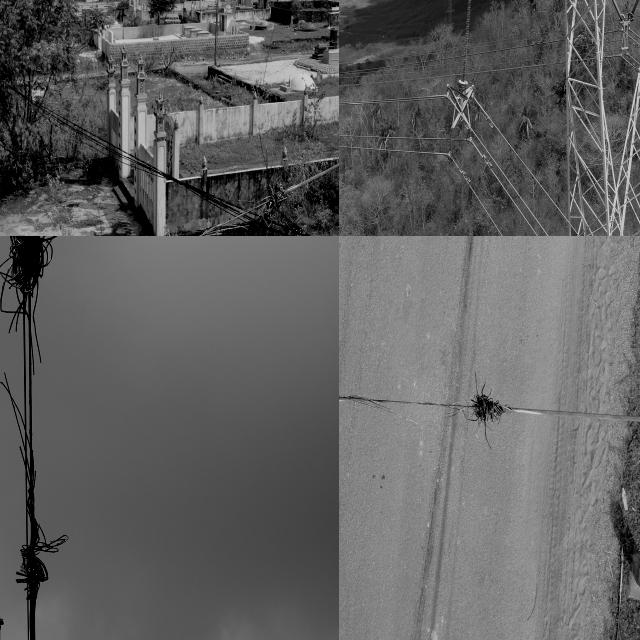杆塔: (551, 0, 640, 236)
正常电缆: (479, 137, 549, 236), (474, 141, 543, 236), (486, 113, 551, 202), (454, 159, 508, 236), (339, 68, 454, 90), (339, 140, 446, 157), (339, 127, 445, 143), (339, 92, 441, 108)
正常绝缘子: (457, 0, 480, 88), (609, 0, 626, 26), (627, 0, 640, 22)
电缆破损: (0, 236, 83, 598), (131, 121, 299, 236), (339, 357, 515, 441)
